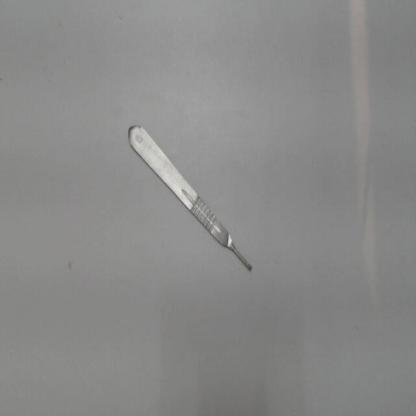No.3 BP Handle: (121, 108, 266, 292)
